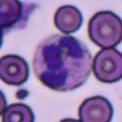N: (31, 34, 92, 91)
